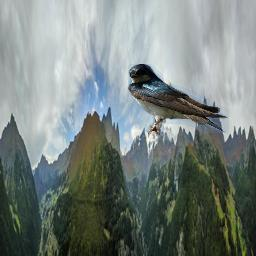Swallow: (128, 64, 229, 137)
